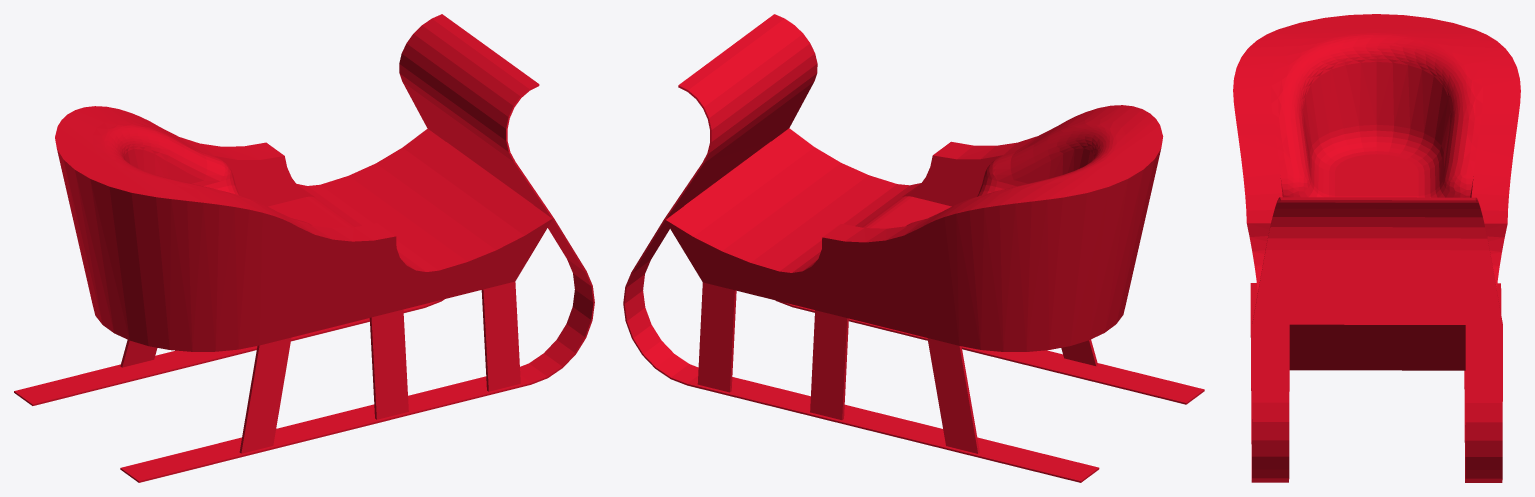
The model's file is trineo.glb.
3 renders of one model, left to right at view 1: azimuth 30°, elevation 25°; view 2: azimuth 150°, elevation 25°; view 3: azimuth 270°, elevation 25°, orthographic.
Visible parts, largest first — view 1: escalado; view 2: escalado; view 3: escalado.
Boxes of the visible parts, x1,y1,x2,y2 form: escalado: (14,14,594,482); escalado: (623,14,1204,482); escalado: (1233,14,1520,482).
Size of the model in its own units: 1.43 by 0.8572 by 0.7722.
